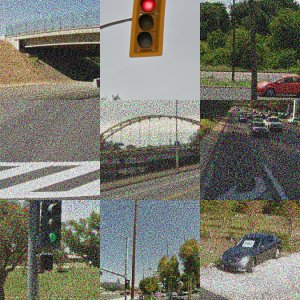汽車: (200, 240, 285, 293), (25, 276, 71, 300), (108, 244, 137, 276), (1, 270, 26, 300), (18, 55, 48, 79)
腳踏車: (230, 3, 277, 48), (153, 1, 194, 42)
